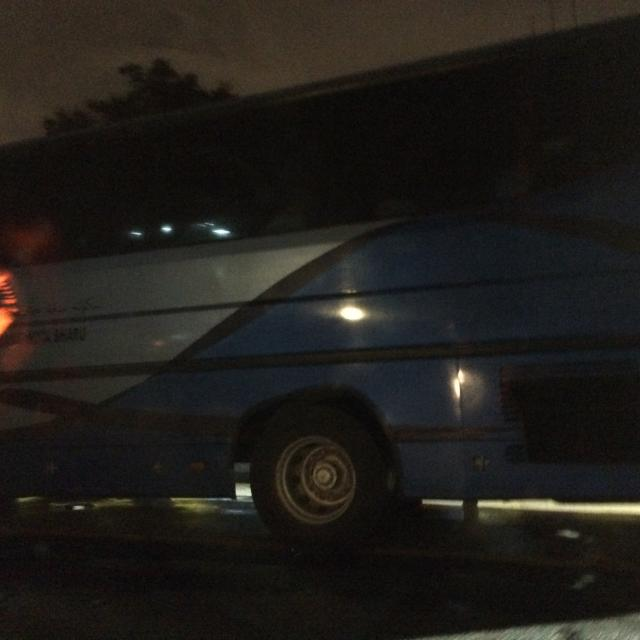Bus: (5, 151, 640, 598)
